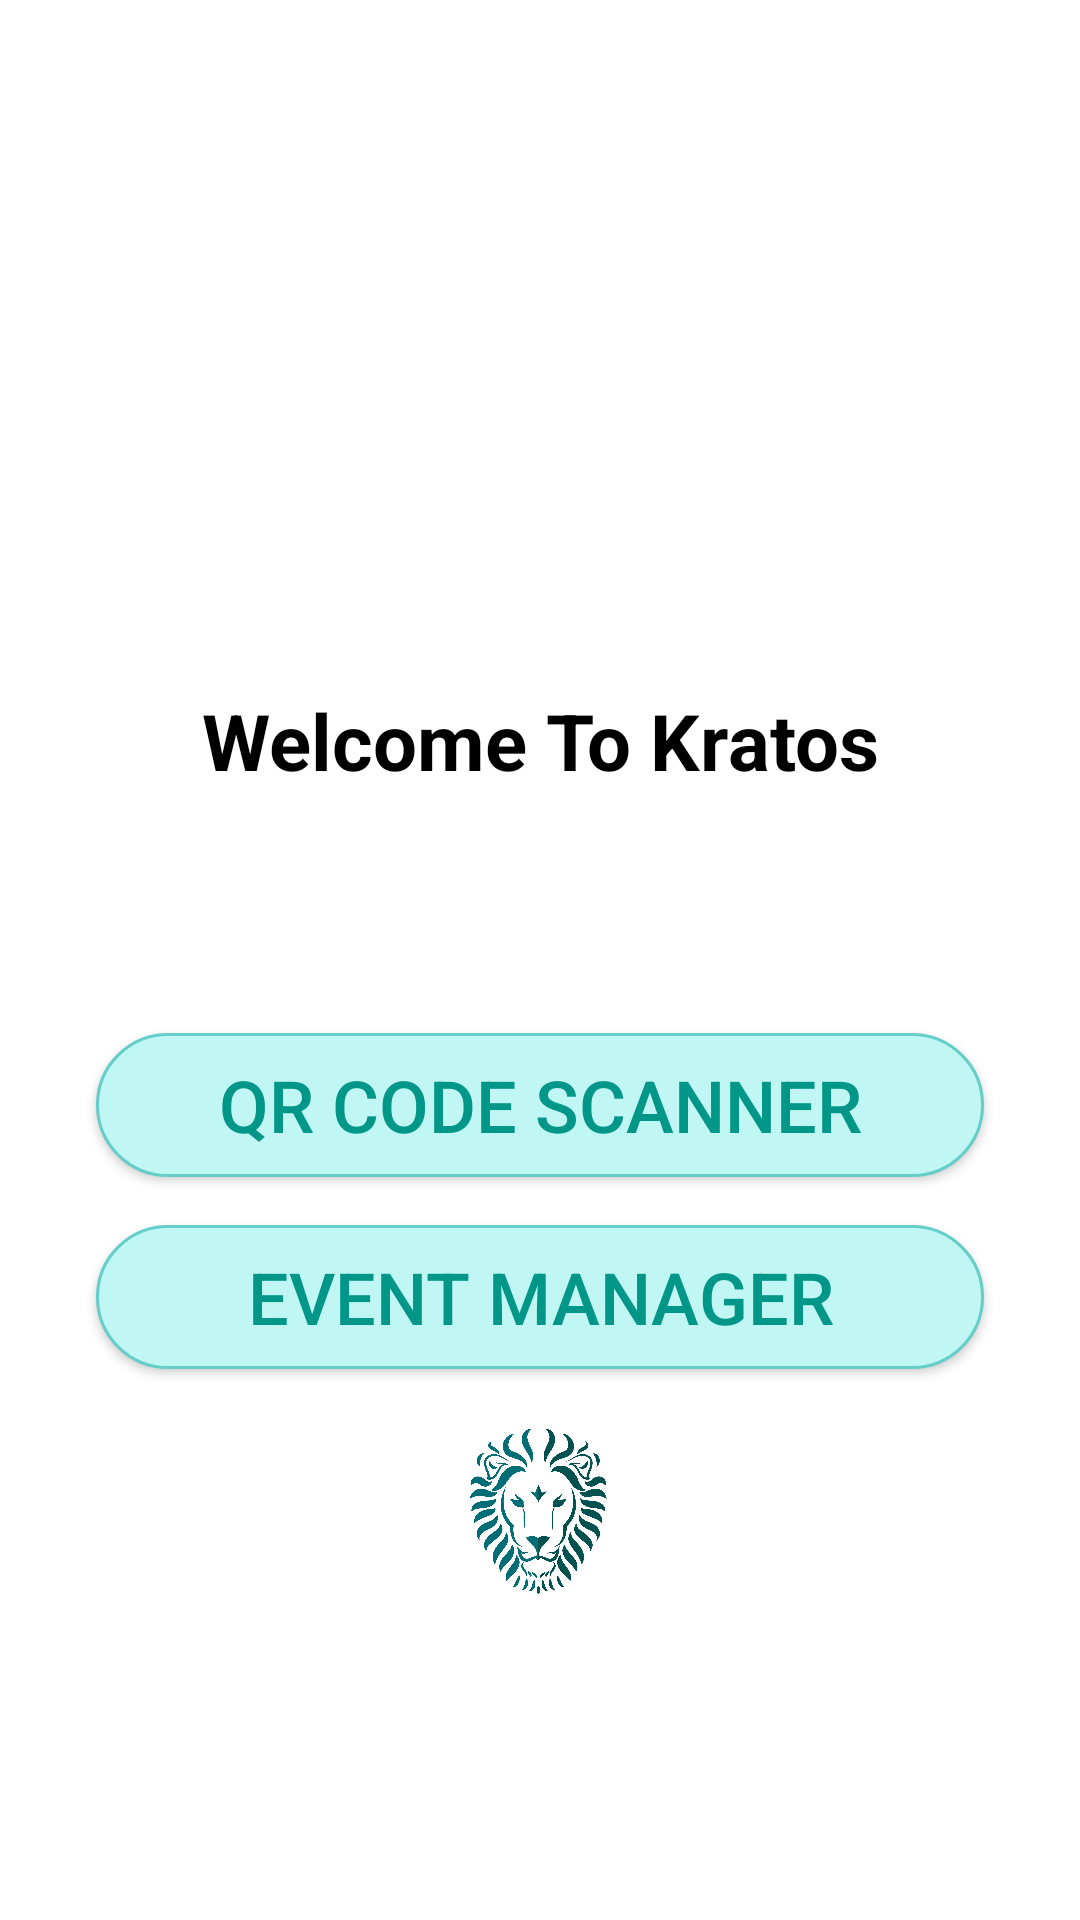

Where icons sit on this 1080 x 1920 app screen, as (x1, y1, x2, y2):
lion: (470, 1429, 607, 1594)
